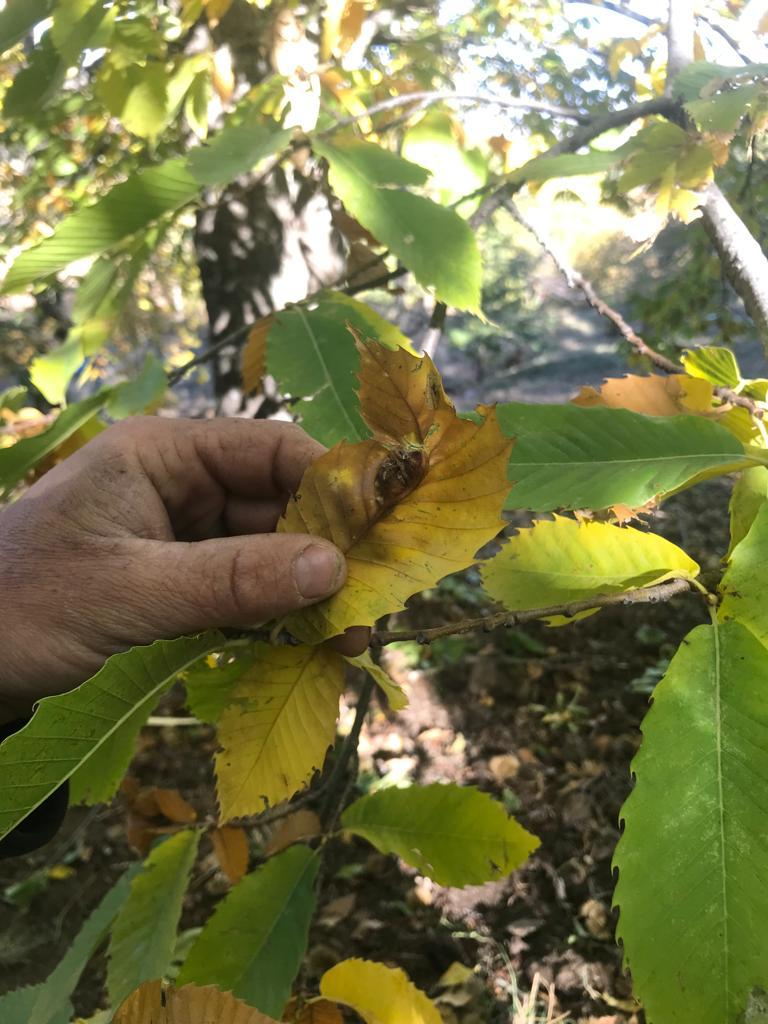galarisi: (353, 321, 477, 565)
